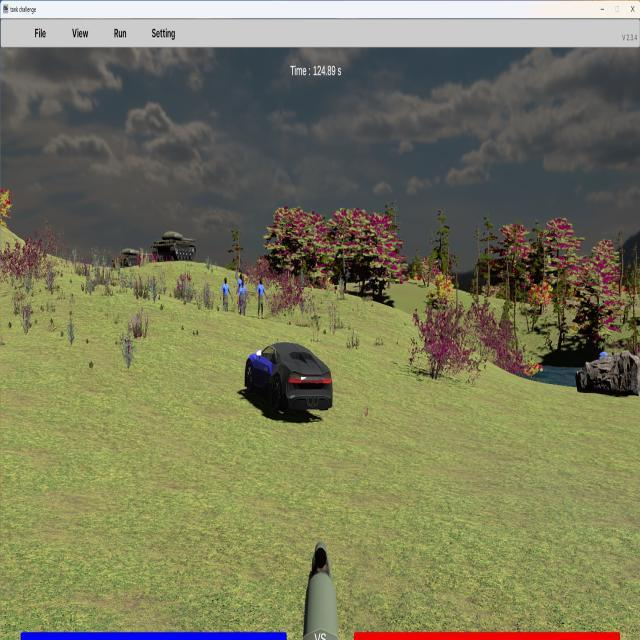Human: (255, 277, 267, 319)
Tank: (152, 230, 197, 263)
car: (245, 341, 333, 415)
